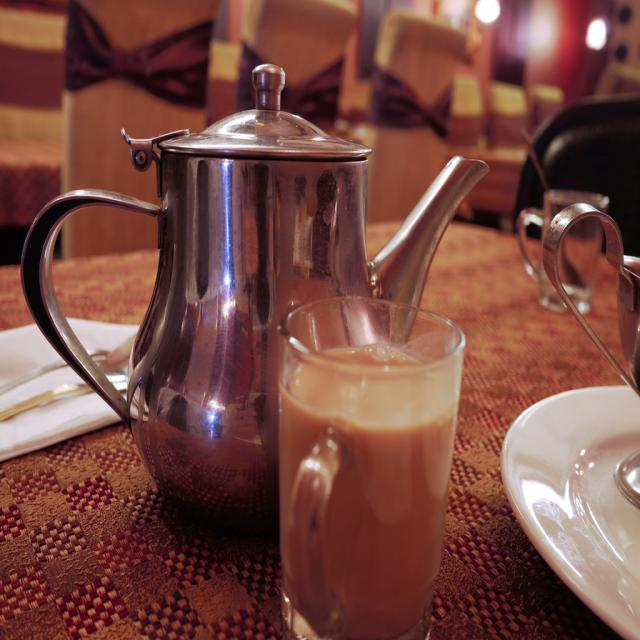Tea: (276, 341, 460, 640)
